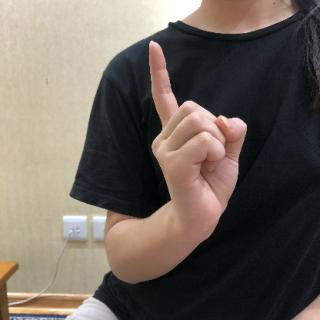RAA: (134, 36, 252, 255)
